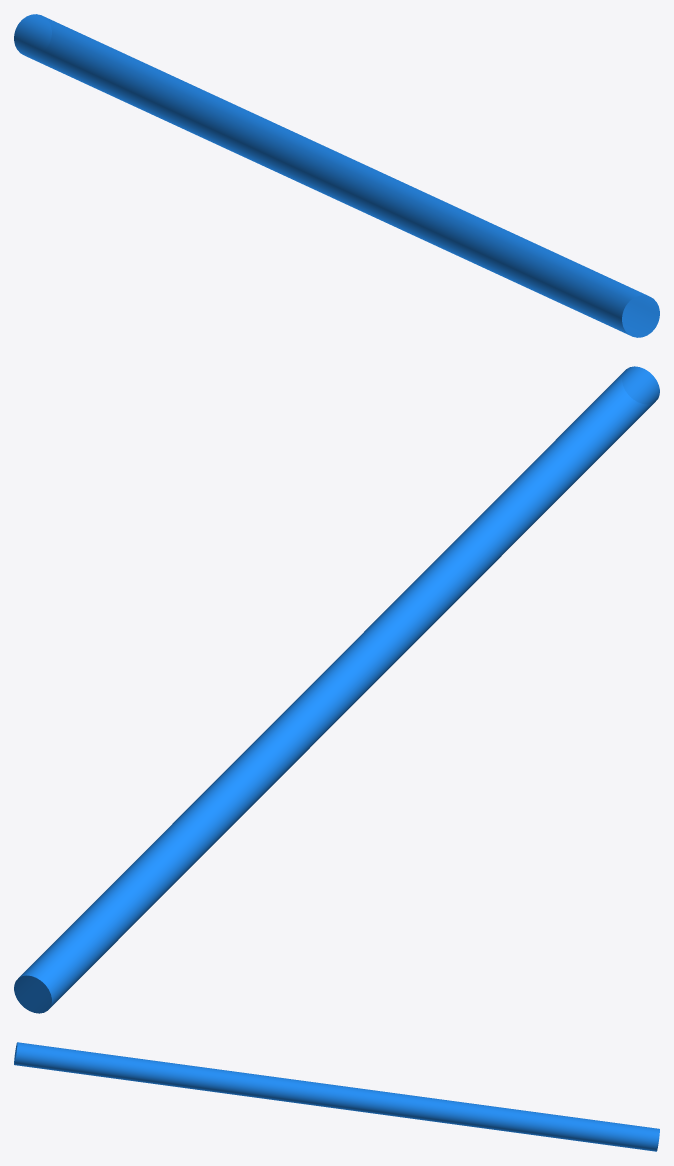
Rendered from Event_420604493_MET.fbx.
The picture shows the model from 3 angles, top to bottom: view 1: azimuth 30°, elevation 25°; view 2: azimuth 150°, elevation 25°; view 3: azimuth 270°, elevation 25°; orthographic projection. The views are drawn at different scales.
Visible parts, largest first — view 1: Model; view 2: Model; view 3: Model.
Boxes of the visible parts, x1,y1,x2,y2 form: Model: (14, 14, 659, 337); Model: (14, 366, 659, 1013); Model: (14, 1042, 659, 1151).
Bounding box in the file's own units: 0.04 × 0.2045 × 1.11.
